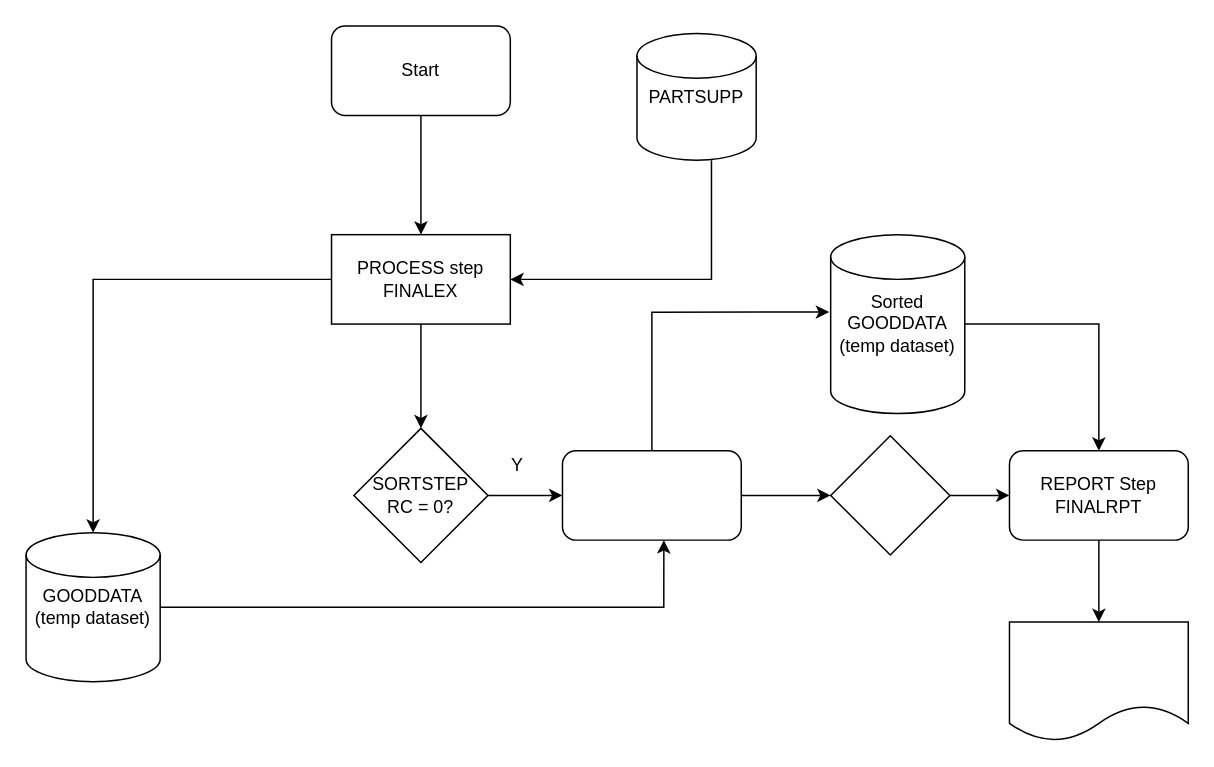
The diagram is 1214 pixels wide and 767 high, and some of its shapes have lost their labels. The centre of each missing label's shape, as x and y in pixels:
COND=0?: point (889, 494)
Purchase Order: point (1098, 681)
SORTPGM Step DFSORT: point (651, 494)
